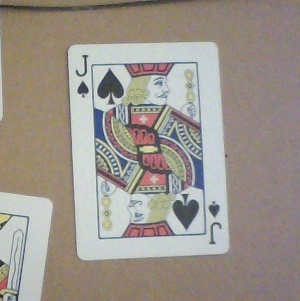card: (67, 42, 233, 259)
